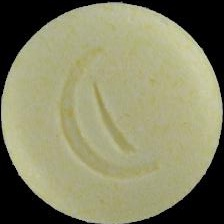42291-326: (0, 0, 224, 224)
